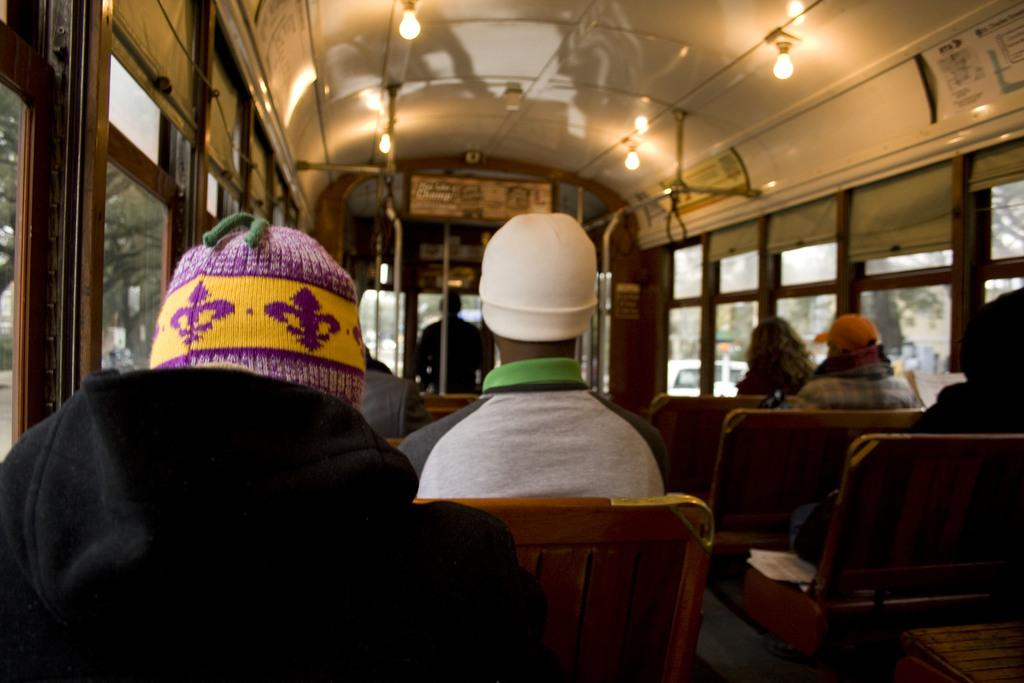Hat: (811, 314, 885, 356)
